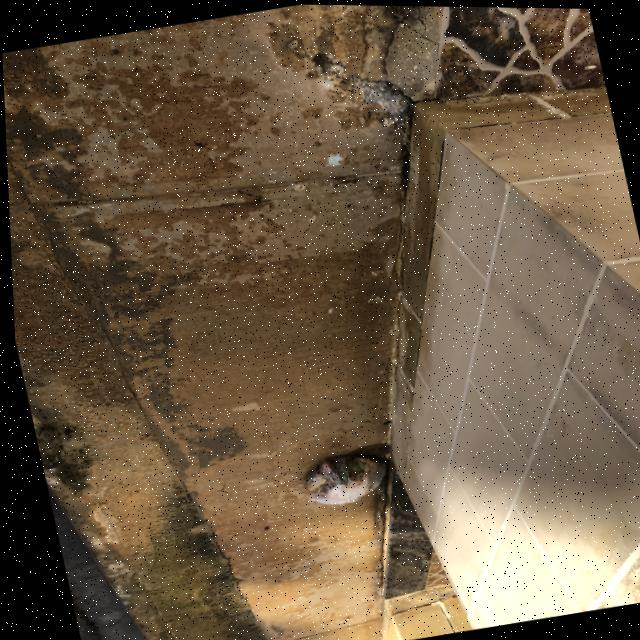Organic Waste -White Bag-: (281, 436, 393, 523)
